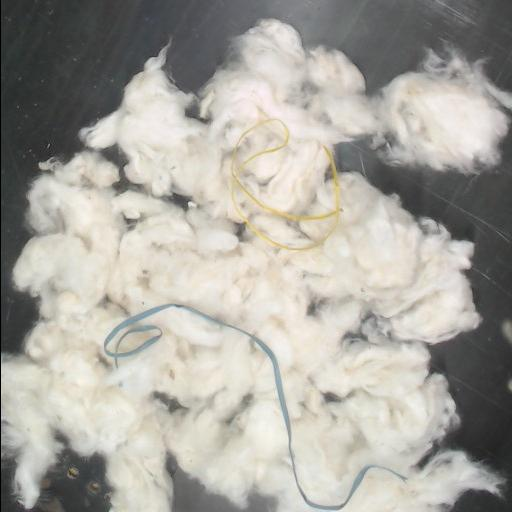conveyor belt: (1, 0, 512, 351), (336, 126, 512, 511), (1, 450, 109, 511), (168, 461, 271, 511), (102, 147, 123, 166)
cotton: (1, 19, 512, 511)
thread: (105, 304, 405, 511), (229, 116, 341, 251), (106, 336, 159, 357)
